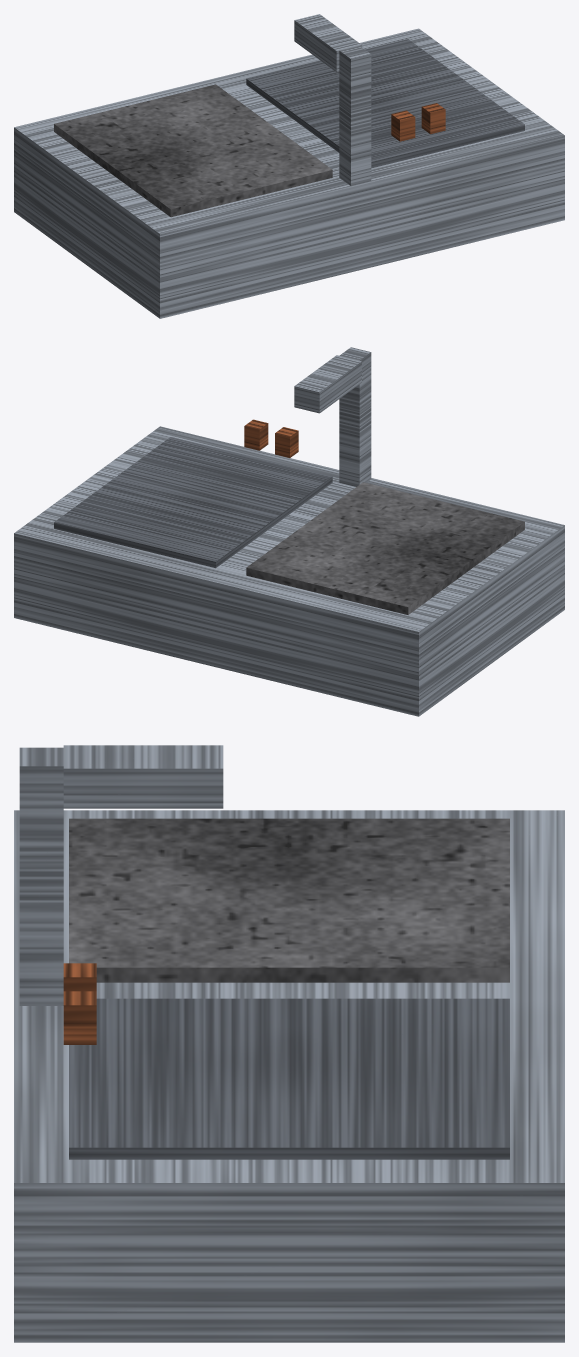
File: kitchen_sink.fbx
3 renders of one model, top to bottom at view 1: azimuth 30°, elevation 25°; view 2: azimuth 150°, elevation 25°; view 3: azimuth 270°, elevation 25°, orthographic. The views are drawn at different scales.
Visible parts, largest first — view 1: kitchen_sink; view 2: kitchen_sink; view 3: kitchen_sink.
Part boxes in pixels (x1,y1,x2,y2): kitchen_sink: (14,14,564,318); kitchen_sink: (14,347,564,716); kitchen_sink: (14,745,564,1342).
Size of the model in its own units: 80 by 40 by 50.
